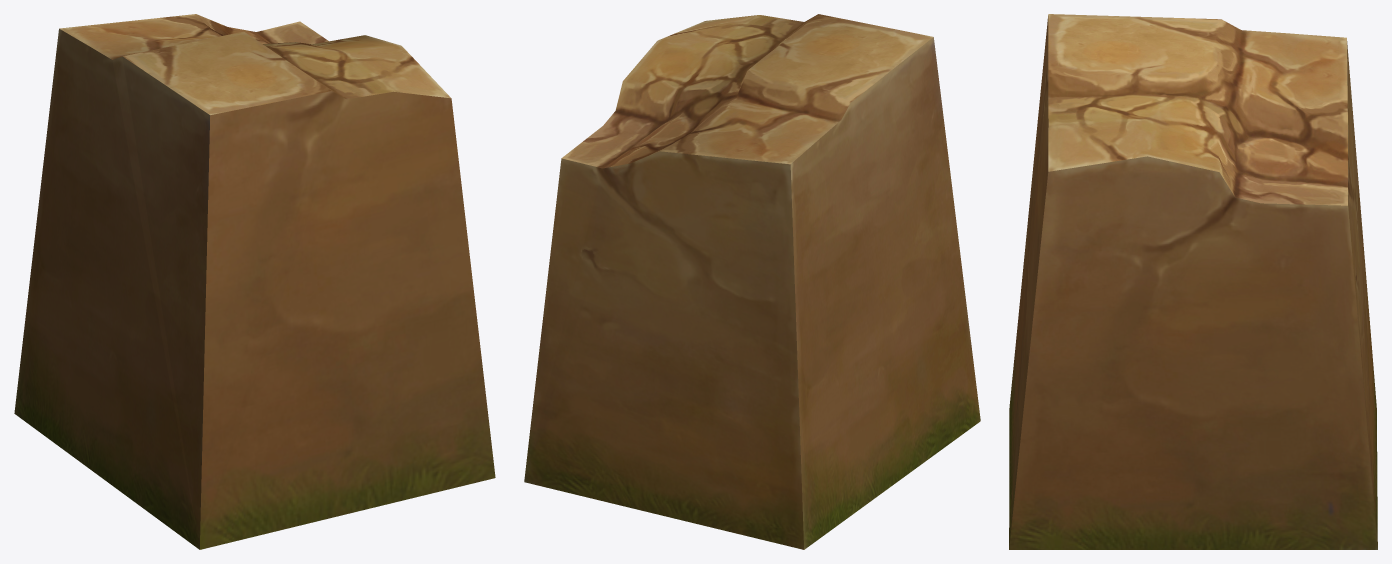
The model's file is CeShi_BFB07_CanQiang05.FBX.
3 views of the same model, side by side, from view 1: azimuth 30°, elevation 25°; view 2: azimuth 150°, elevation 25°; view 3: azimuth 270°, elevation 25° (orthographic). The views are drawn at different scales.
Parts seen in each view (by area): view 1: CeShi_BFB07_CanQiang05; view 2: CeShi_BFB07_CanQiang05; view 3: CeShi_BFB07_CanQiang05.
Boxes of the visible parts, x1,y1,x2,y2 form: CeShi_BFB07_CanQiang05: (14,14,495,549); CeShi_BFB07_CanQiang05: (524,14,980,549); CeShi_BFB07_CanQiang05: (1009,14,1377,549).
Size of the model in its own units: 331 by 442 by 362.
